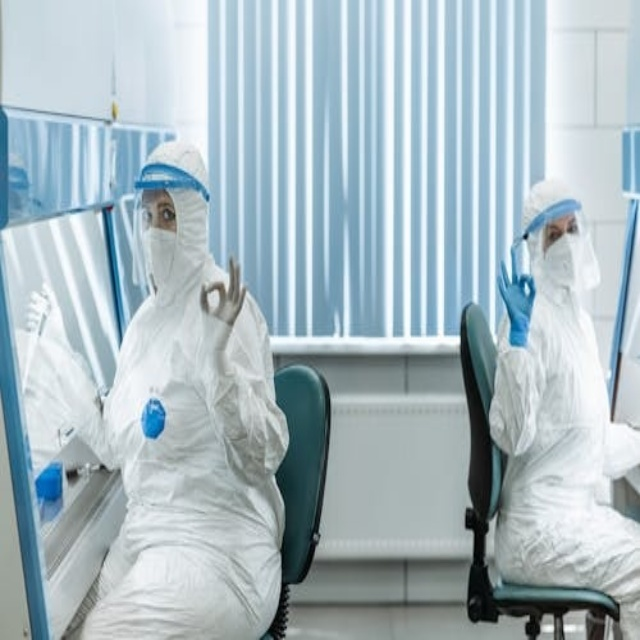Guantes: (187, 249, 256, 370), (20, 268, 74, 364), (492, 236, 534, 345)
Mascara: (141, 196, 208, 301), (535, 228, 598, 296), (8, 183, 31, 219)
Sin_gafas: (541, 215, 584, 243), (136, 203, 177, 228)
